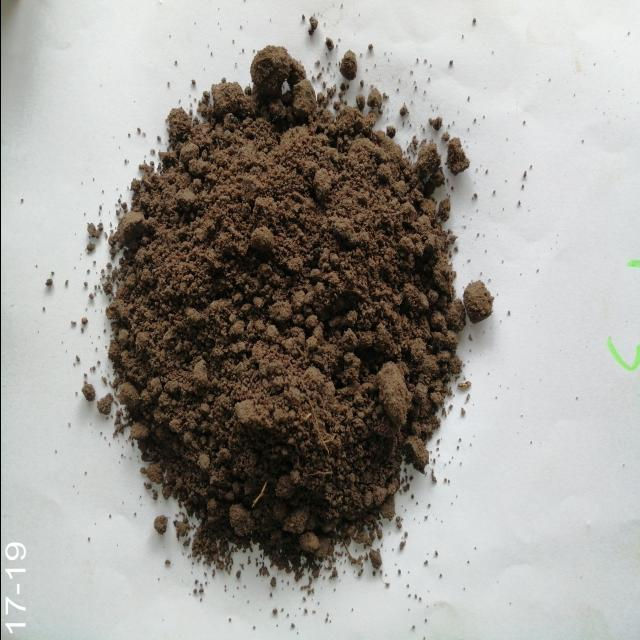soil: (147, 142, 399, 482)
